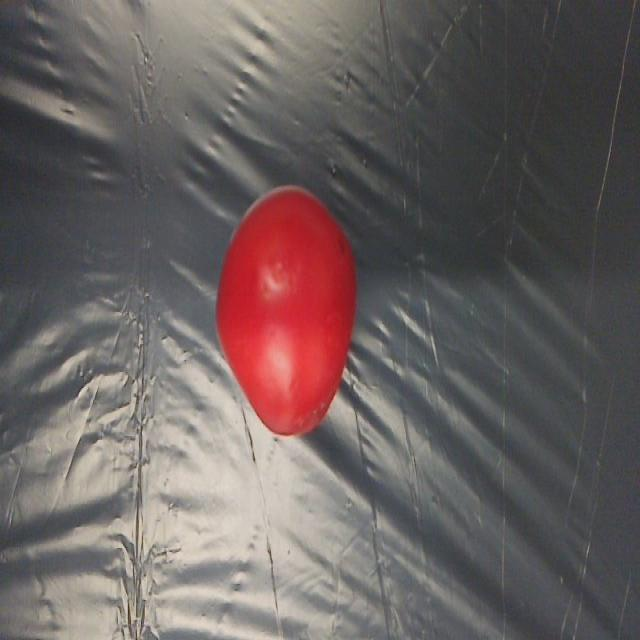kirmizi: (201, 183, 363, 451)
